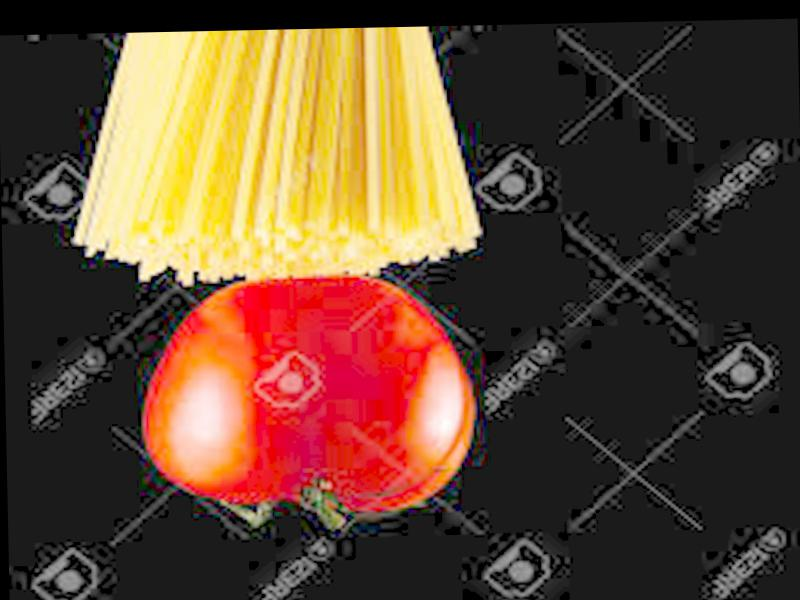Tomato: (142, 270, 470, 517)
